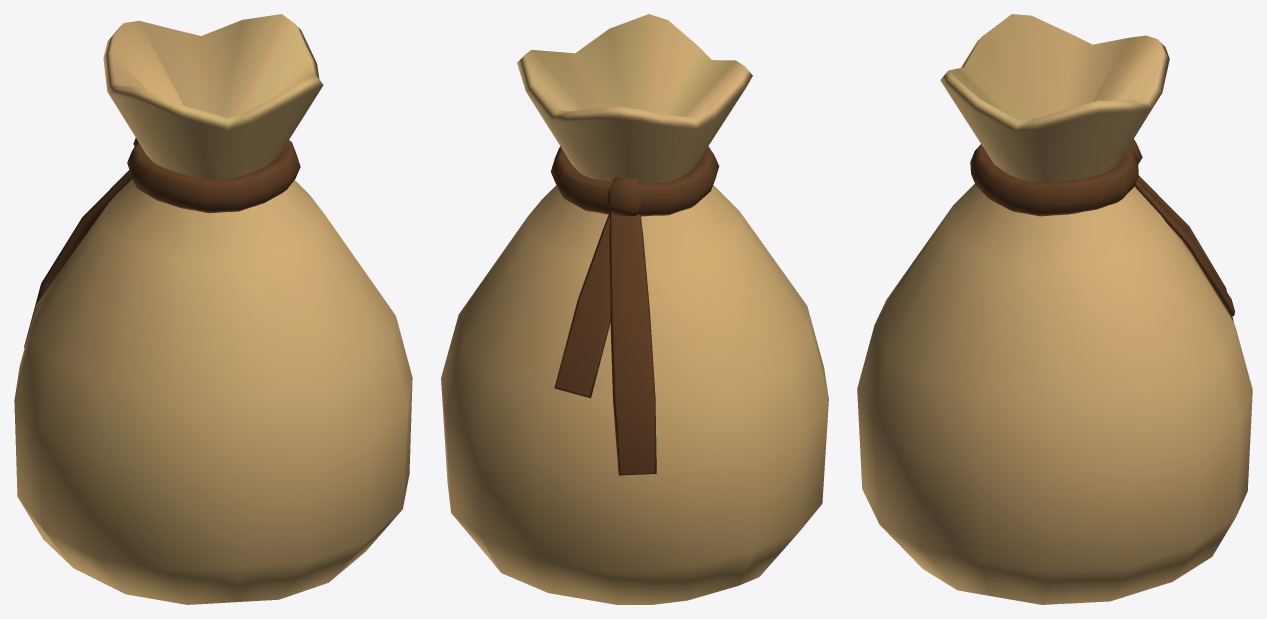
File: Money Bag.fbx
The picture shows the model from 3 angles, left to right: view 1: azimuth 30°, elevation 25°; view 2: azimuth 150°, elevation 25°; view 3: azimuth 270°, elevation 25°; orthographic projection.
Parts seen in each view (by area): view 1: Money Bag; view 2: Money Bag; view 3: Money Bag.
Part boxes in pixels (x1,y1,x2,y2): Money Bag: (14,14,412,604); Money Bag: (441,14,828,604); Money Bag: (857,14,1252,604).
Size of the model in its own units: 34.47 by 48.03 by 34.47.
1 material, 1 textured.
